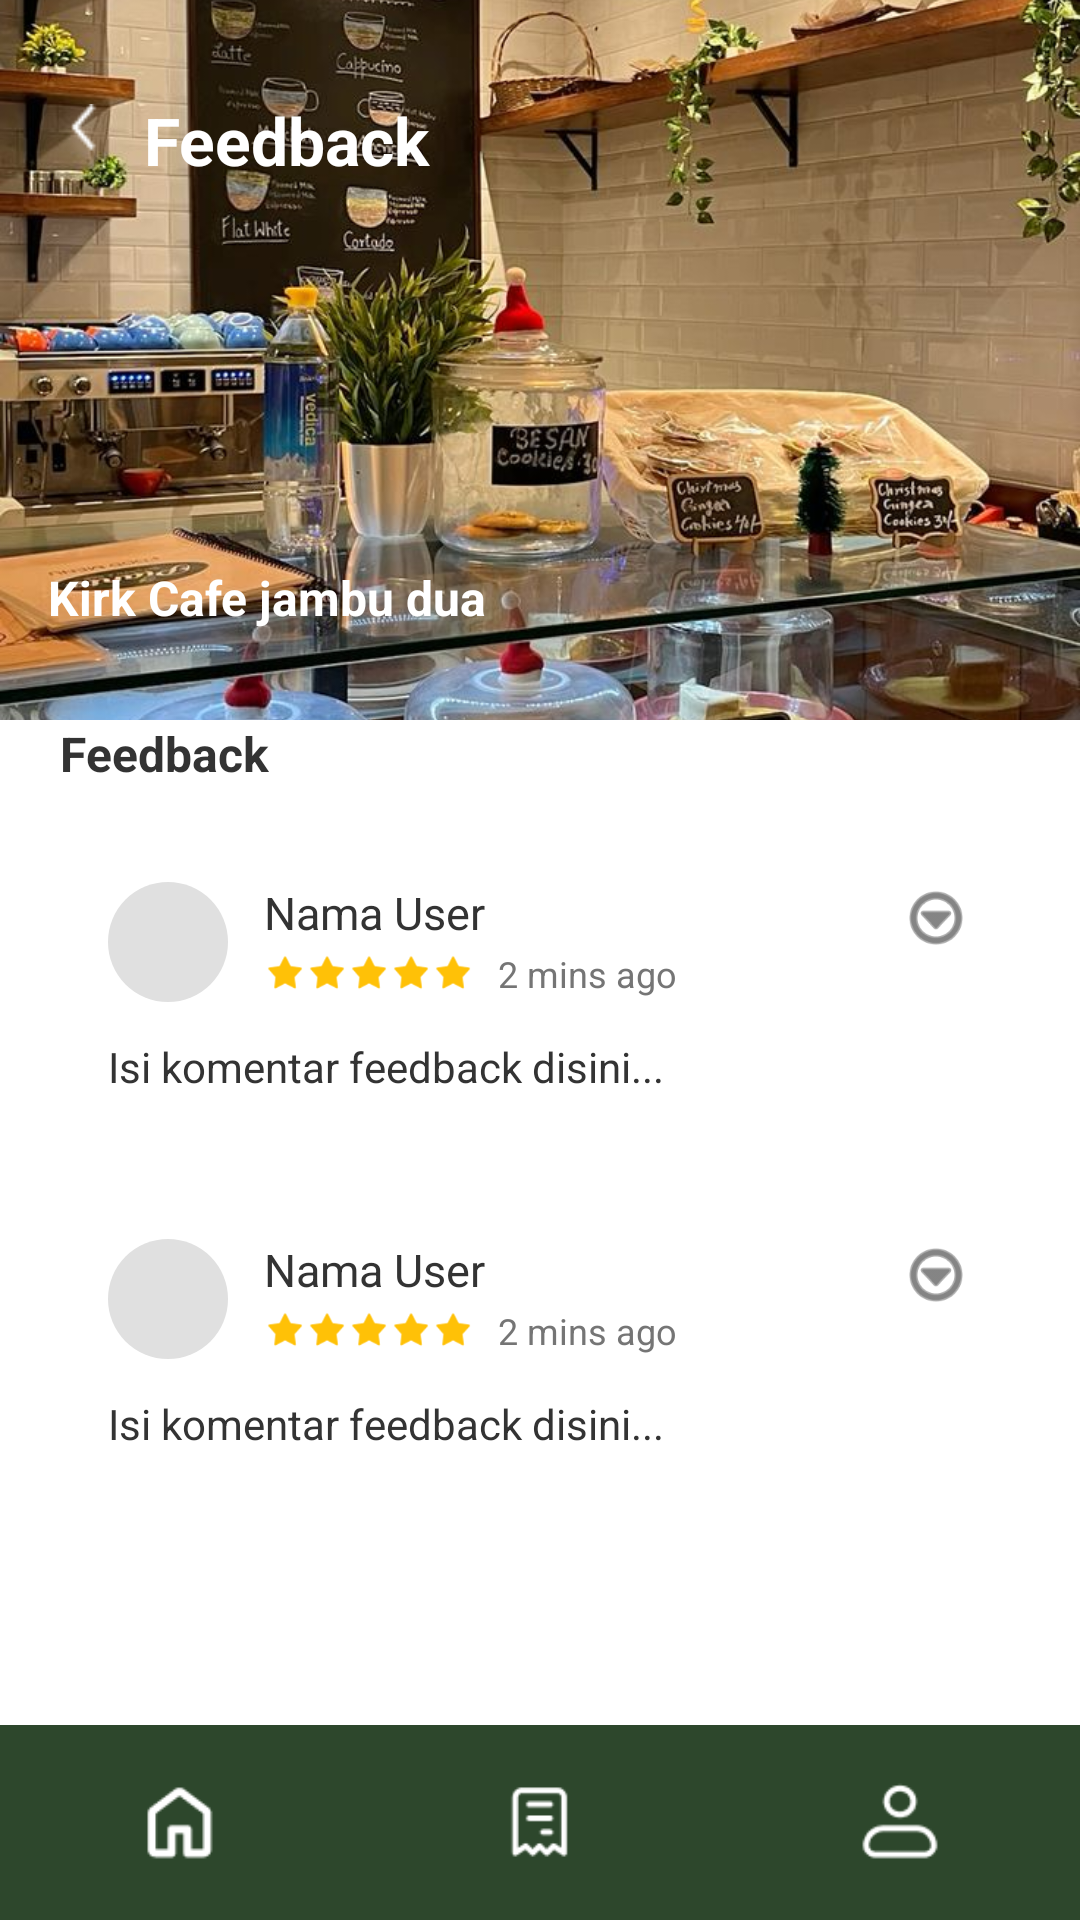

Named icons in this screenshot (1080 x 1920) and their centers, (x,y):
home: (180,1823)
more: (936,918), (936,1275)
profile bar: (900,1822)
recipt: (539,1822)
sebelumnya: (84,140)
